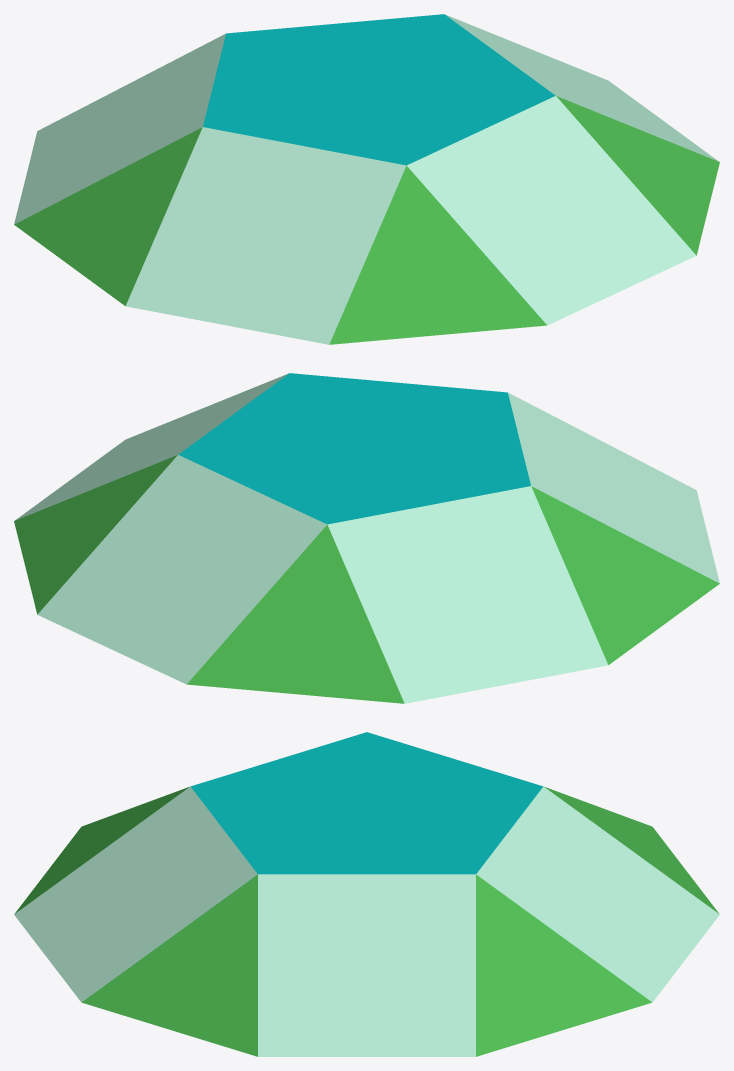
The model's file is J5.CupulaPentagonal.gltf.
3 renders of one model, top to bottom at view 1: azimuth 30°, elevation 25°; view 2: azimuth 150°, elevation 25°; view 3: azimuth 270°, elevation 25°, orthographic. The views are drawn at different scales.
Parts seen in each view (by area): view 1: J5.Cupulapentagonal; view 2: J5.Cupulapentagonal; view 3: J5.Cupulapentagonal.
Boxes of the visible parts, bbox=[...] form: J5.Cupulapentagonal: bbox=[14, 14, 719, 344]; J5.Cupulapentagonal: bbox=[14, 373, 719, 703]; J5.Cupulapentagonal: bbox=[14, 732, 719, 1056].
Size of the model in its own units: 19.02 by 3.27 by 20.
